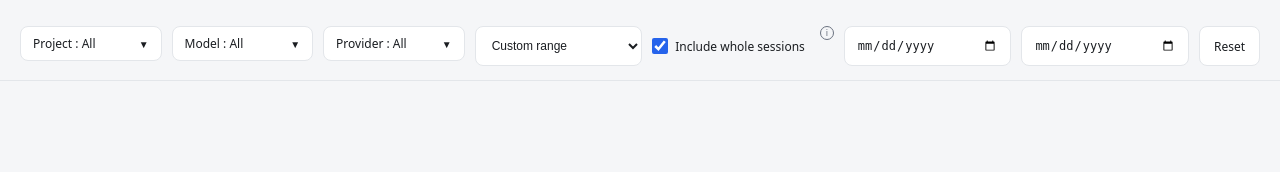
FilterBar project groups › uses translated section and accessible group labels in English
The width and height of the screenshot is (1280, 172).
Click the button "Project : All ▼" at coordinates (91, 44), box [20, 26, 162, 61]
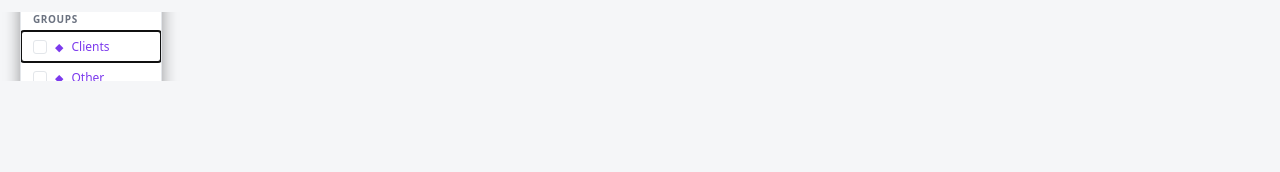
Check: the option with aria-label "Group Clients" is shown, box [33, 38, 110, 55]
